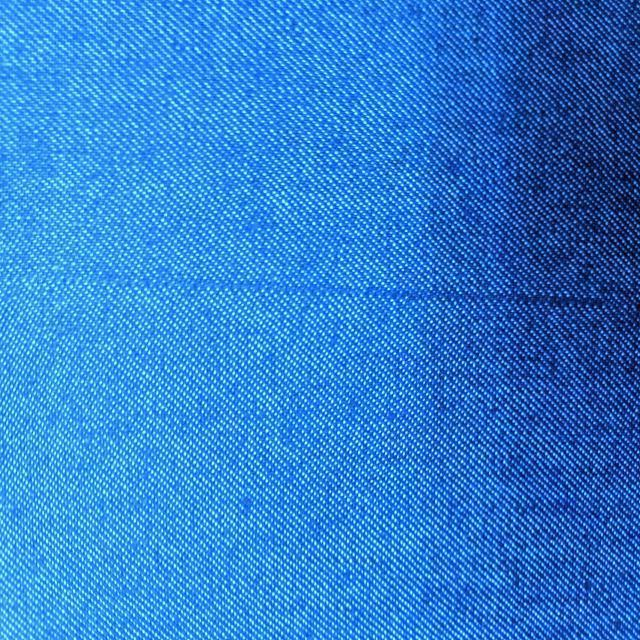Line: (38, 272, 603, 312)
